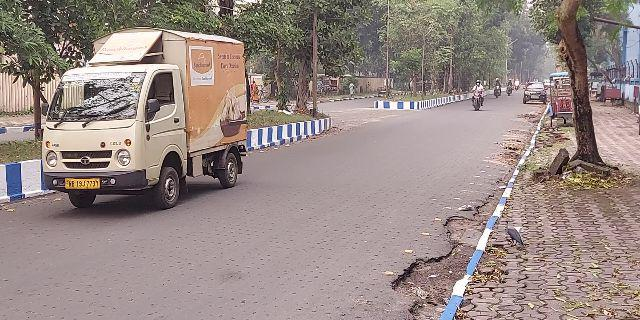Car: (522, 78, 546, 103)
Minitruck: (40, 21, 260, 215)
Motorbike: (464, 75, 491, 112)
Rickshaw: (546, 71, 573, 131)
